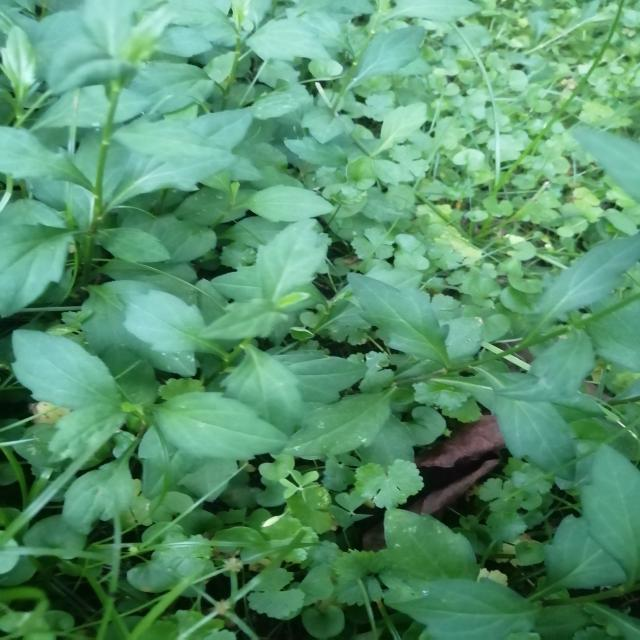Indian aster: (48, 222, 394, 474), (0, 20, 254, 247)
